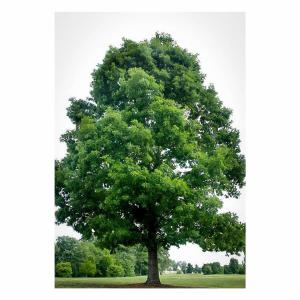Tree: (58, 30, 244, 288)
